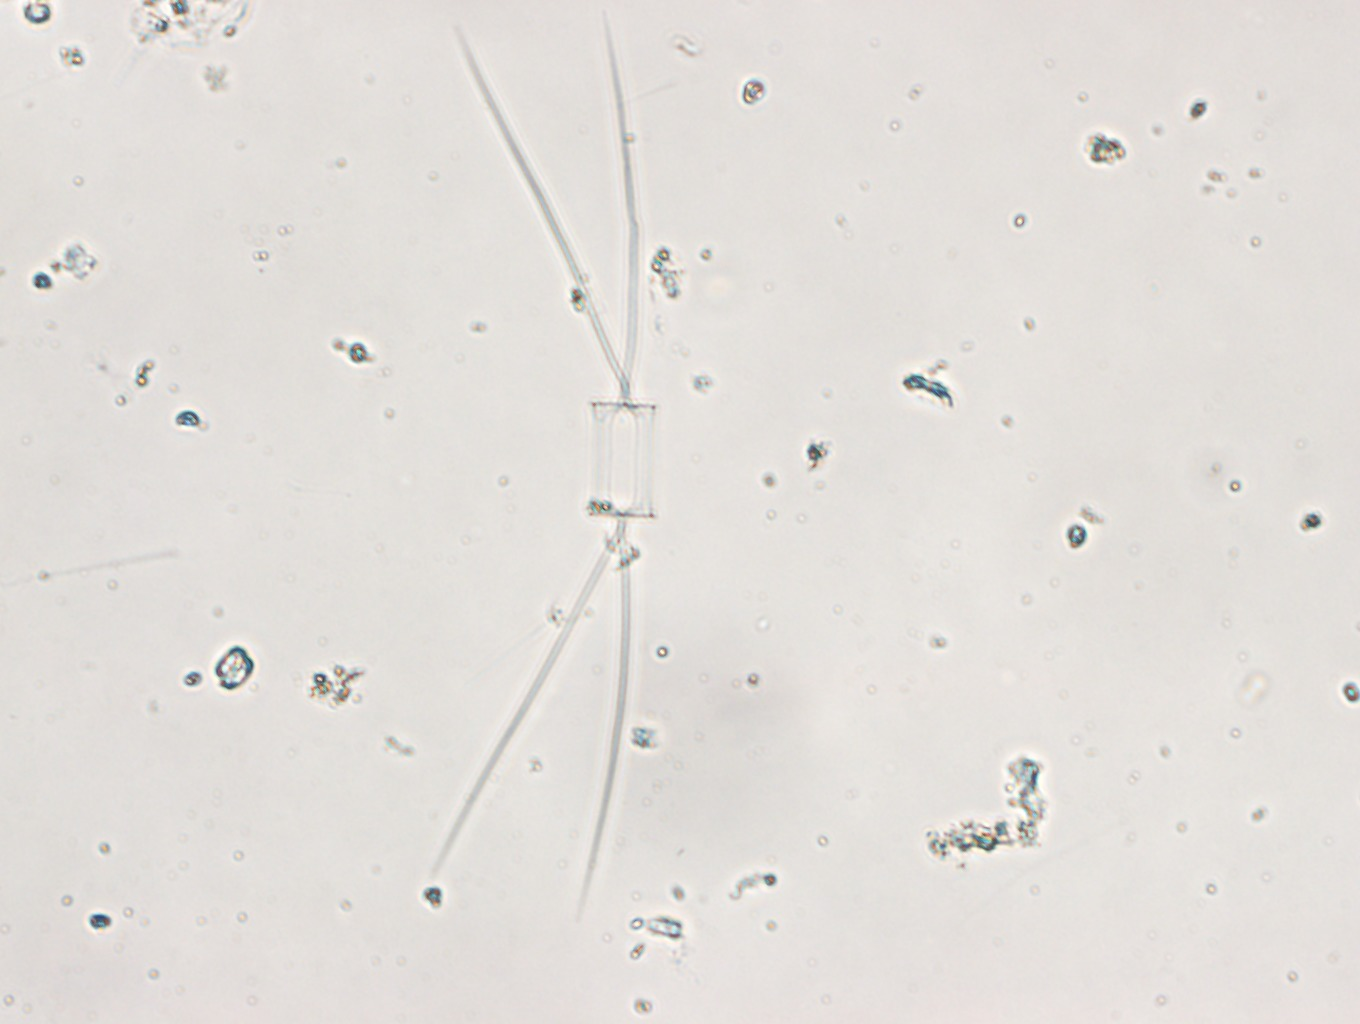chaetoceros: (426, 13, 656, 916)
